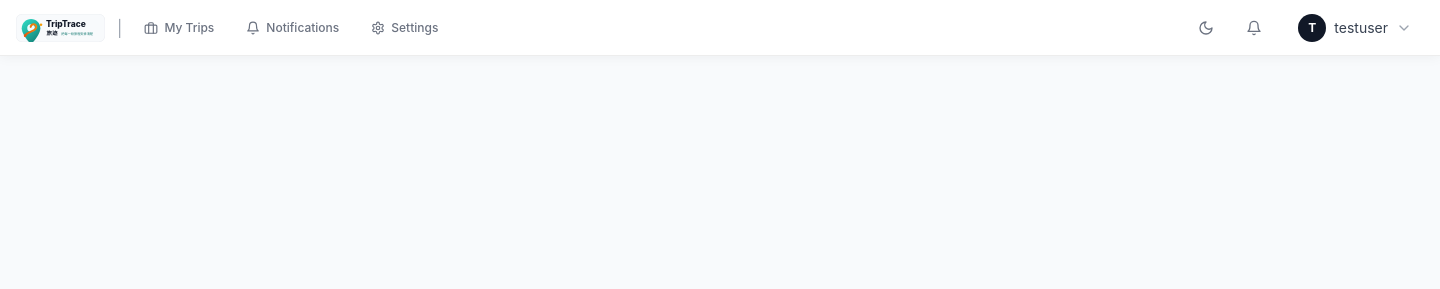
Test: Navbar › FE-COMP-NAVBAR-005: user menu shows Log out option
Click the text "testuser" at (1361, 28), box x1=1334 y1=18 x2=1388 y2=38
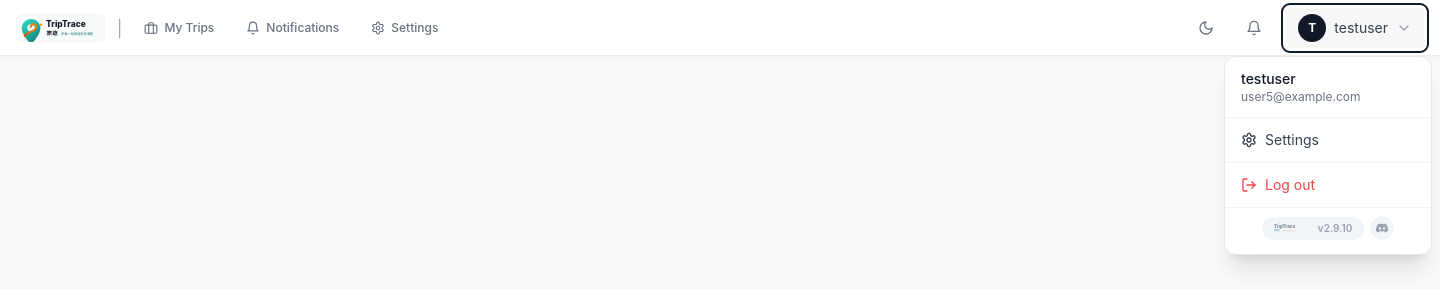
Now the button "Log out" is shown, box x1=1225 y1=167 x2=1431 y2=203
